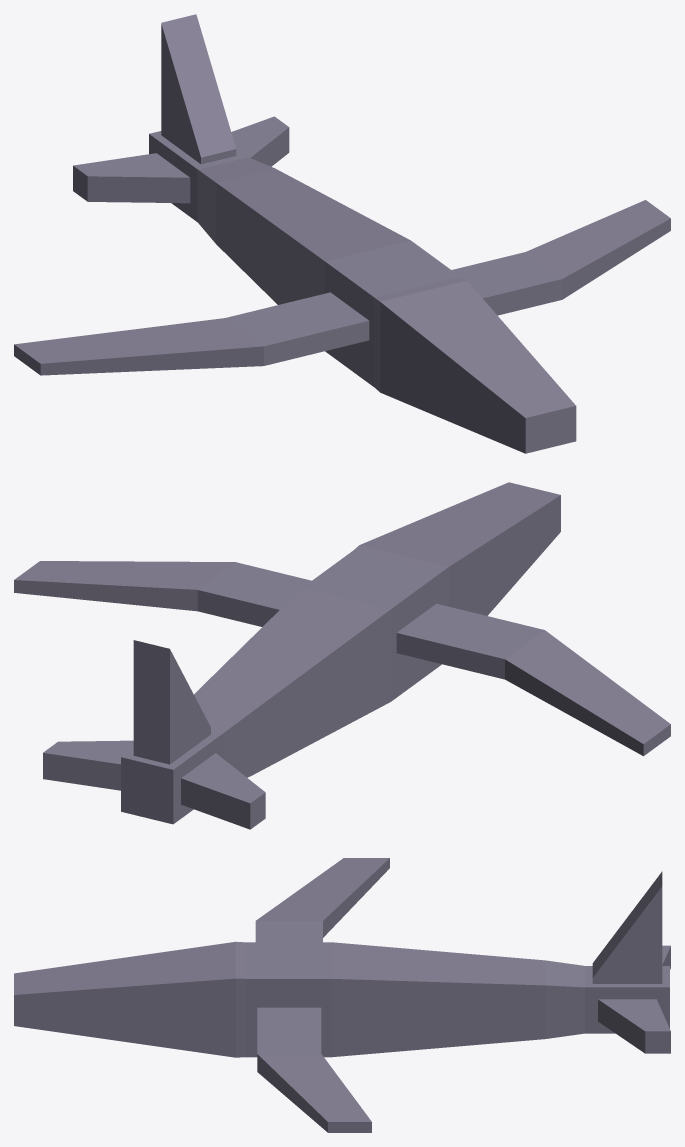
The picture shows the model from 3 angles, top to bottom: view 1: azimuth 30°, elevation 25°; view 2: azimuth 150°, elevation 25°; view 3: azimuth 270°, elevation 25°; orthographic projection. The views are drawn at different scales.
Parts seen in each view (by area): view 1: Cube.001; view 2: Cube.001; view 3: Cube.001.
Boxes of the visible parts, left/top/right/bottom form: Cube.001: left=14, top=14, right=670, bottom=453; Cube.001: left=14, top=482, right=670, bottom=829; Cube.001: left=14, top=858, right=670, bottom=1132.
Bounding box in the file's own units: 5.21 × 1.48 × 5.48.
